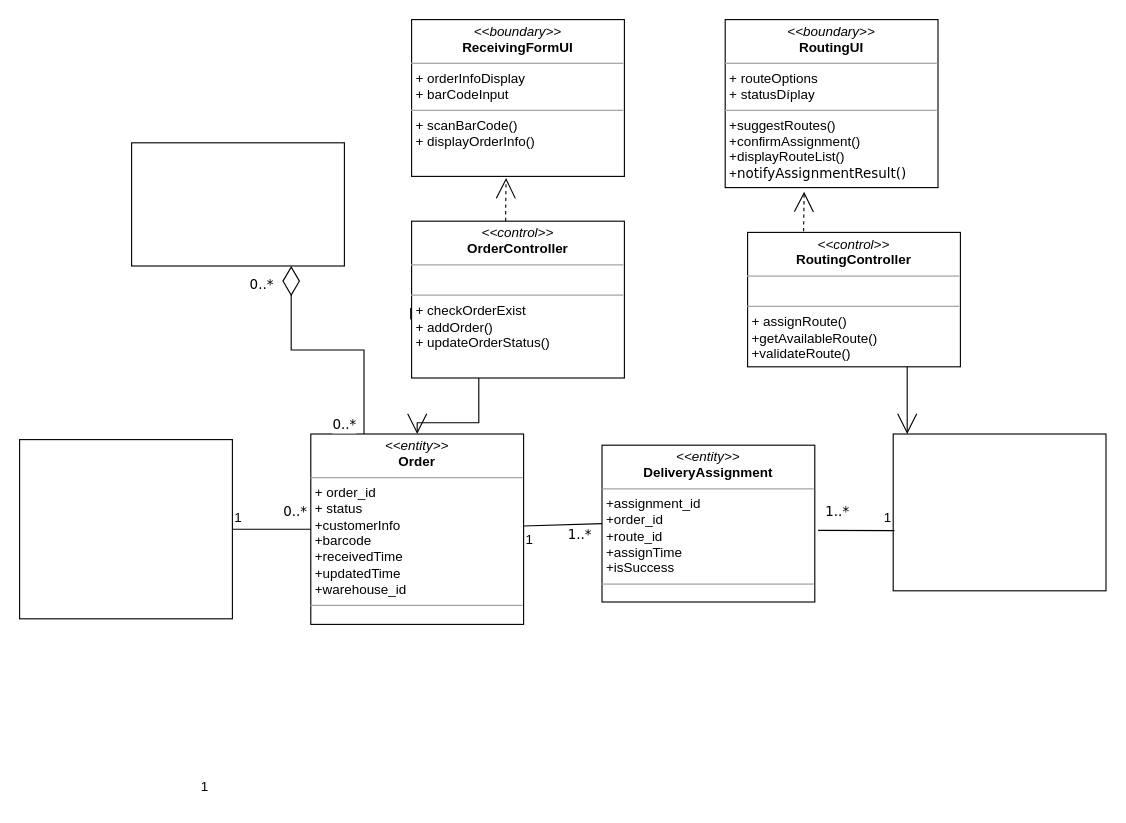
The diagram is 1126 pixels wide and 823 high, and some of its shapes have lost their labels. Here are the shapes that lost their labels. From the top down, the centre of each, then its label:
(237,204): <<entity>> Warehouse + warehouse_id +name +location
(125,528): <<entity>> Customer +customer_id +name +gender +phone +email +address +password
(999,512): <<entity>> Route + route_id +startLocation +endLocation +isAvailable
